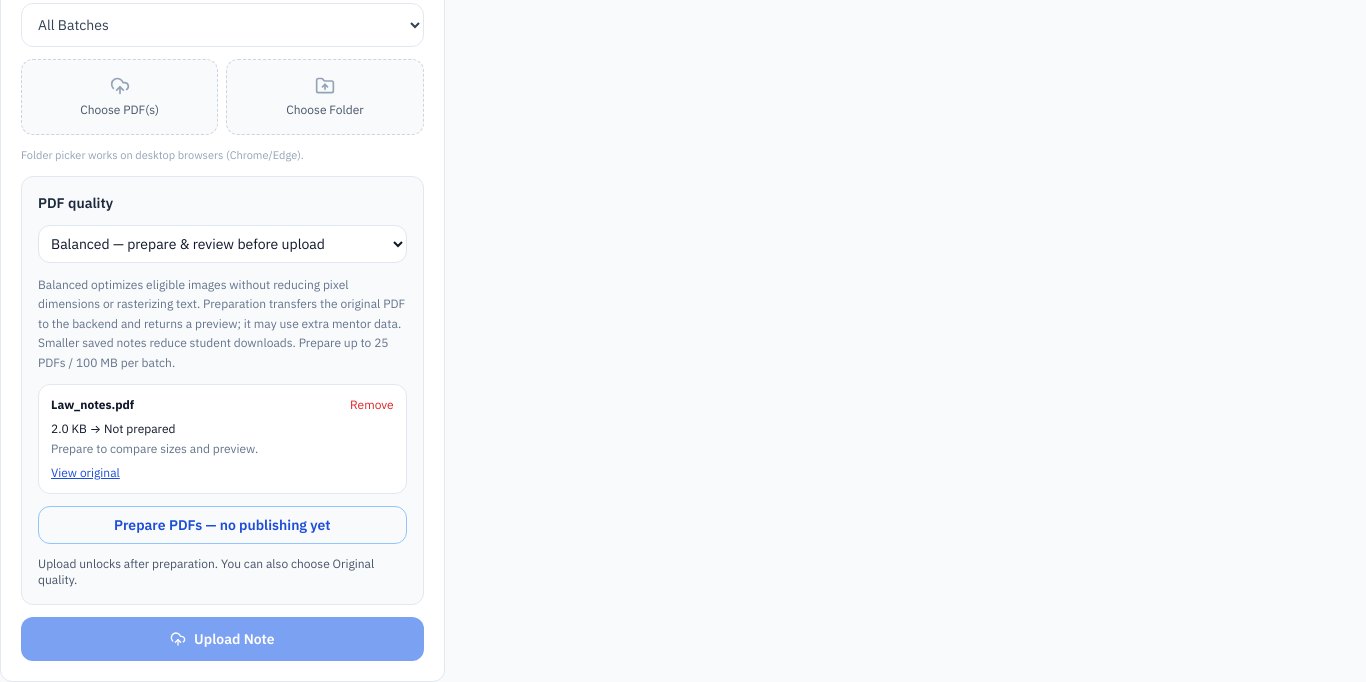
it: preparation authentication error keeps upload locked
The image size is (1366, 682).
Earlier steps of the test are not shown.
(page scrolled)
Click the button "Prepare PDFs — no publishing yet": (222, 525) [38,506,407,544]
(page scrolled)
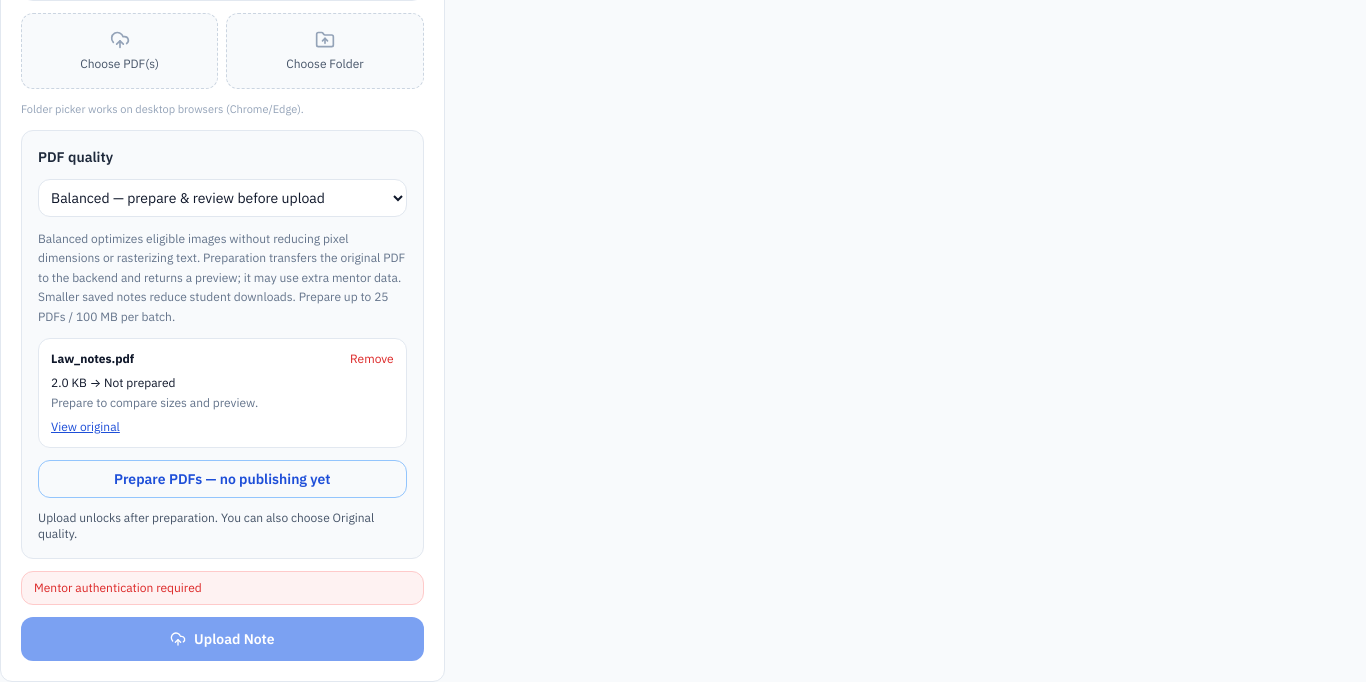
Expected: the button "Upload Note" is disabled, [21,617,424,661]
Now the text "Mentor authentication required" is shown, box [21,571,424,605]
